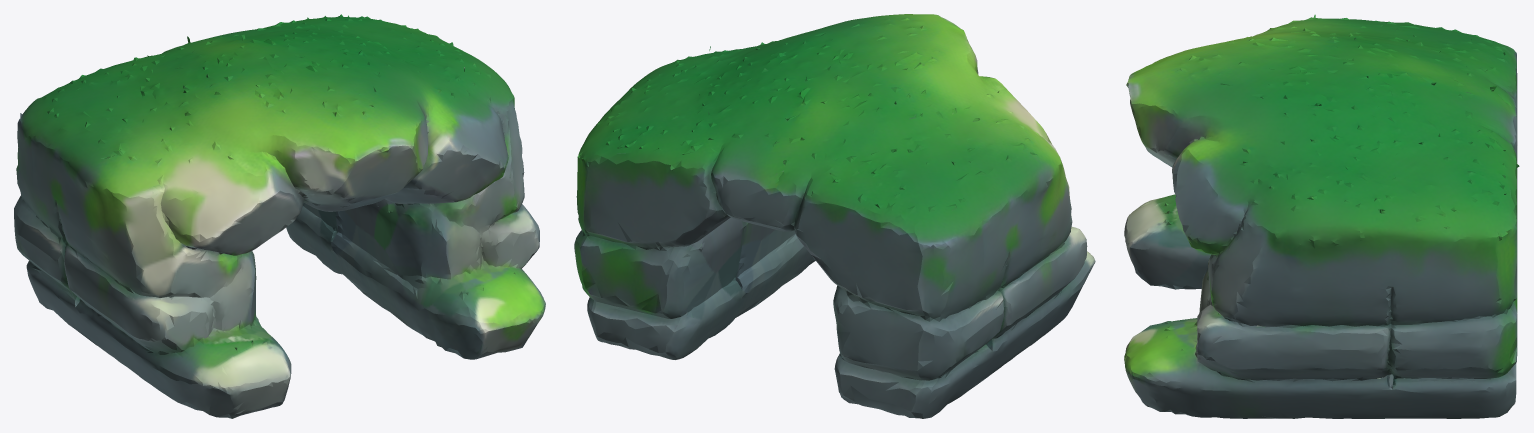
File: arch.glb
The picture shows the model from 3 angles, left to right: view 1: azimuth 30°, elevation 25°; view 2: azimuth 150°, elevation 25°; view 3: azimuth 270°, elevation 25°; orthographic projection. The views are drawn at different scales.
Parts seen in each view (by area): view 1: Rodin_arch; view 2: Rodin_arch; view 3: Rodin_arch.
Part boxes in pixels (bbox=[...]): Rodin_arch: bbox=[14, 14, 545, 418]; Rodin_arch: bbox=[574, 14, 1095, 418]; Rodin_arch: bbox=[1124, 14, 1519, 418].
Size of the model in its own units: 3.5 by 2.11 by 2.8.
1 material, 1 textured.
